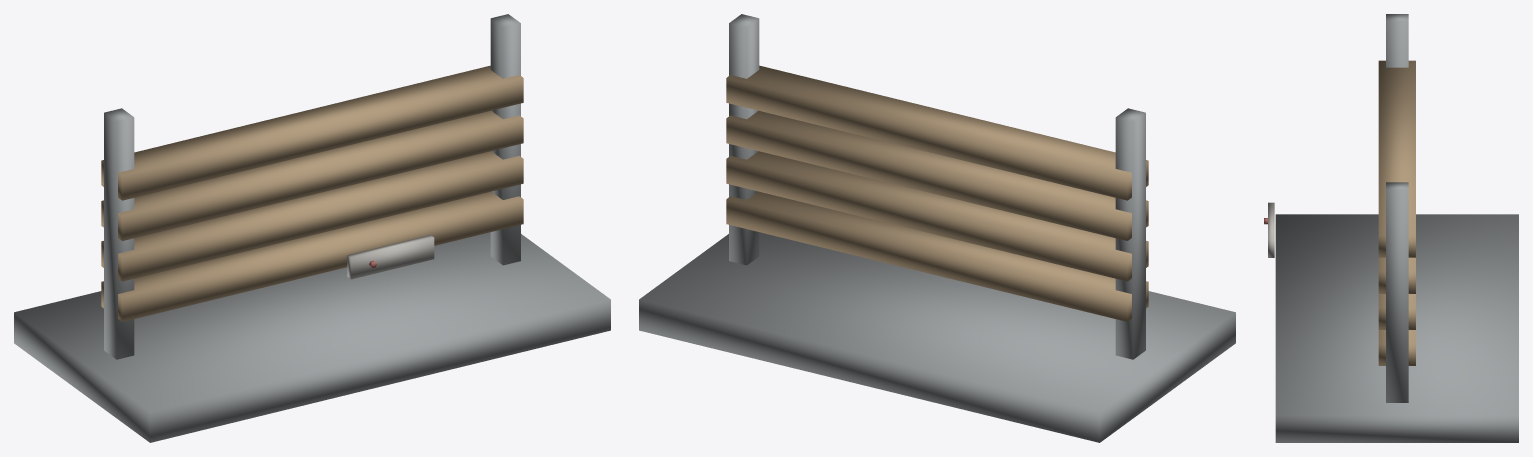
File: lumber_cart__deep.glb
3 views of the same model, side by side, from view 1: azimuth 30°, elevation 25°; view 2: azimuth 150°, elevation 25°; view 3: azimuth 270°, elevation 25° (orthographic). The views are drawn at different scales.
Parts seen in each view (by area): view 1: world; view 2: world; view 3: world.
Boxes of the visible parts, x1,y1,x2,y2 form: world: [14, 14, 610, 442]; world: [639, 14, 1235, 442]; world: [1264, 14, 1518, 442].
Size of the model in its own units: 1.55 by 0.865 by 0.8308.
